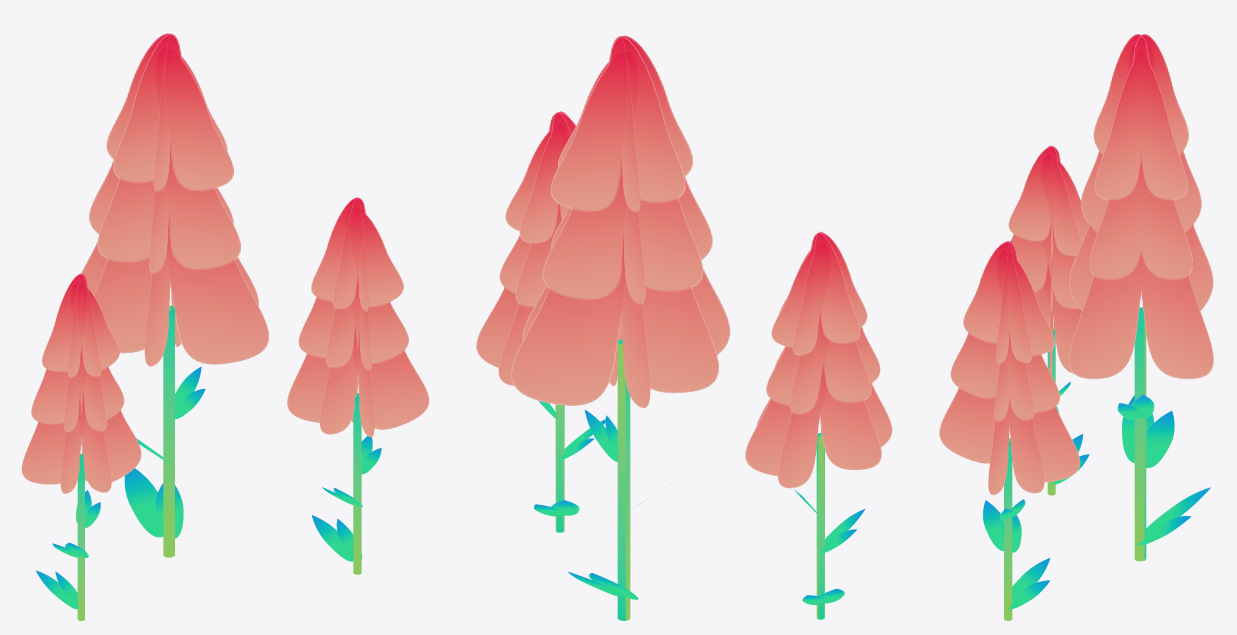
Rendered from Flowers_n02_09.fbx.
The picture shows the model from 3 angles, left to right: view 1: azimuth 30°, elevation 25°; view 2: azimuth 150°, elevation 25°; view 3: azimuth 270°, elevation 25°; orthographic projection. The views are drawn at different scales.
Visible parts, largest first — view 1: polySurface174; view 2: polySurface174; view 3: polySurface174.
Boxes of the visible parts, left/top/right/bottom form: polySurface174: left=21, top=33, right=429, bottom=620; polySurface174: left=476, top=35, right=892, bottom=620; polySurface174: left=939, top=34, right=1213, bottom=620.
Bounding box in the file's own units: 32.38 × 42.56 × 20.93.
Materials: 1 (1 with a texture image).
